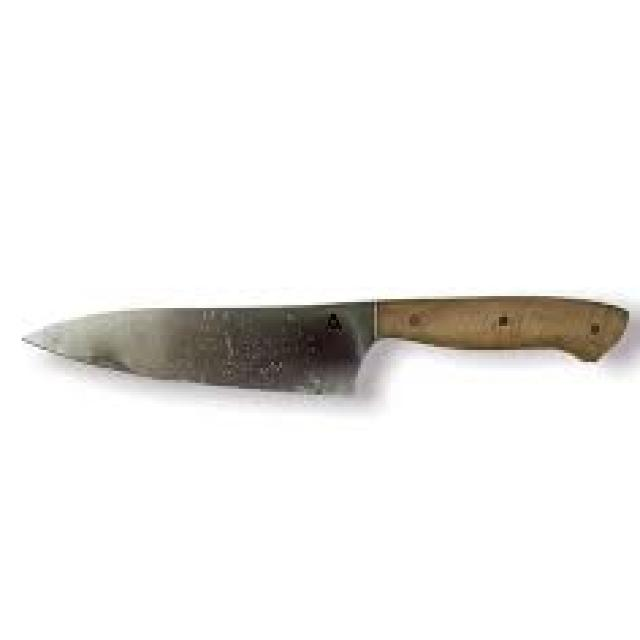Knife: (19, 293, 629, 398)
